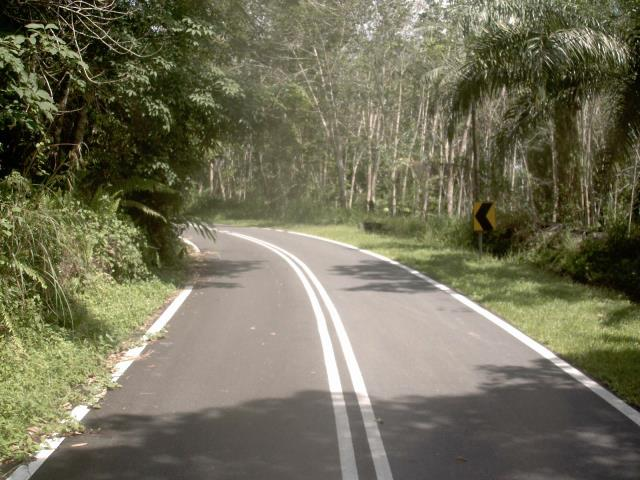traffic_sign: (466, 192, 502, 239)
